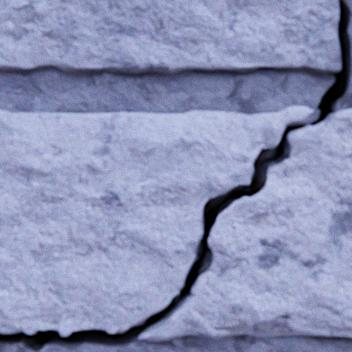brick: (0, 0, 339, 75)
broken_brick: (0, 107, 313, 335), (139, 109, 351, 341)
crack: (0, 0, 351, 351)
